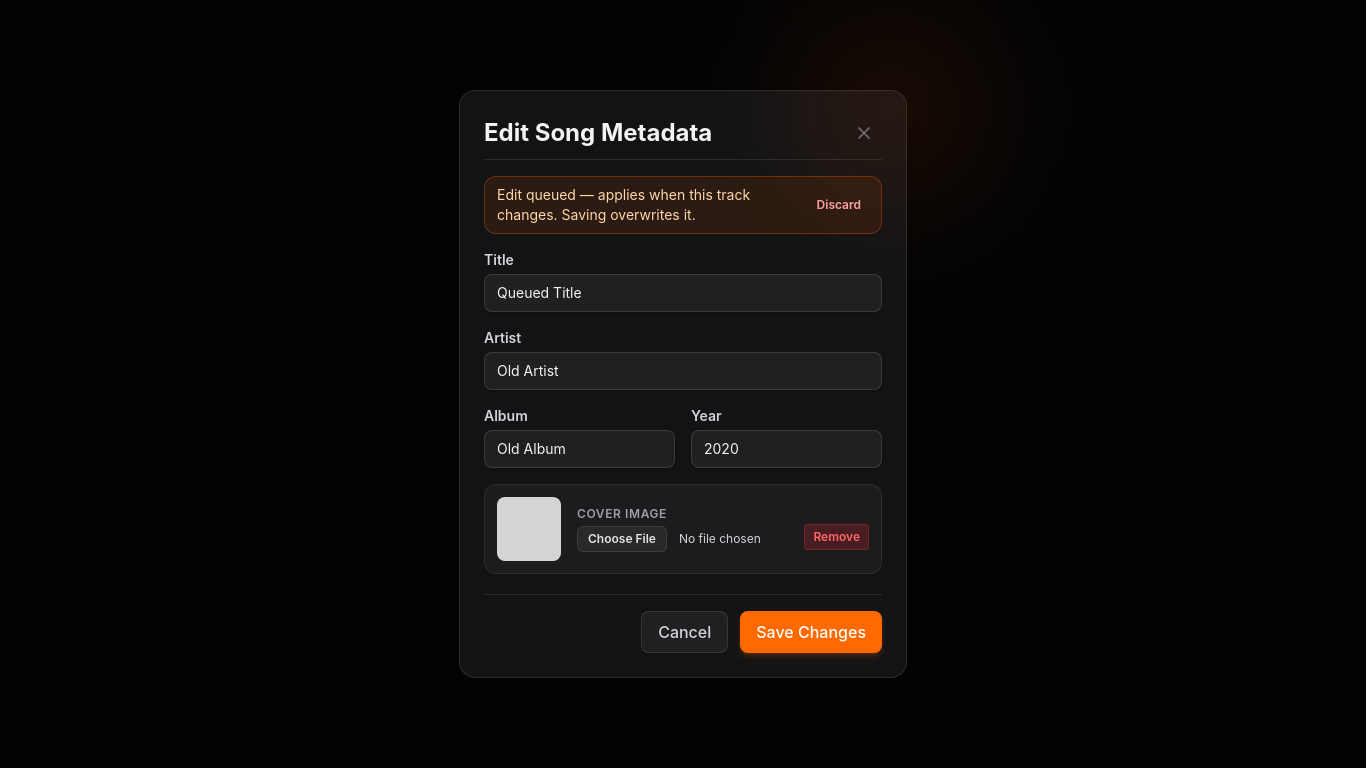
Test: EditSongModal submit › prefills from a queued edit and discards it on request
This screenshot has width=1366, height=768.
Check: the text "Edit queued" is shown, box [497,186,750,223]
Check: the field with placeholder "Song Title" holds "Queued Title", box [484,274,882,312]
Click the button "Discard". click: (839, 205)
box: [809,193,869,217]
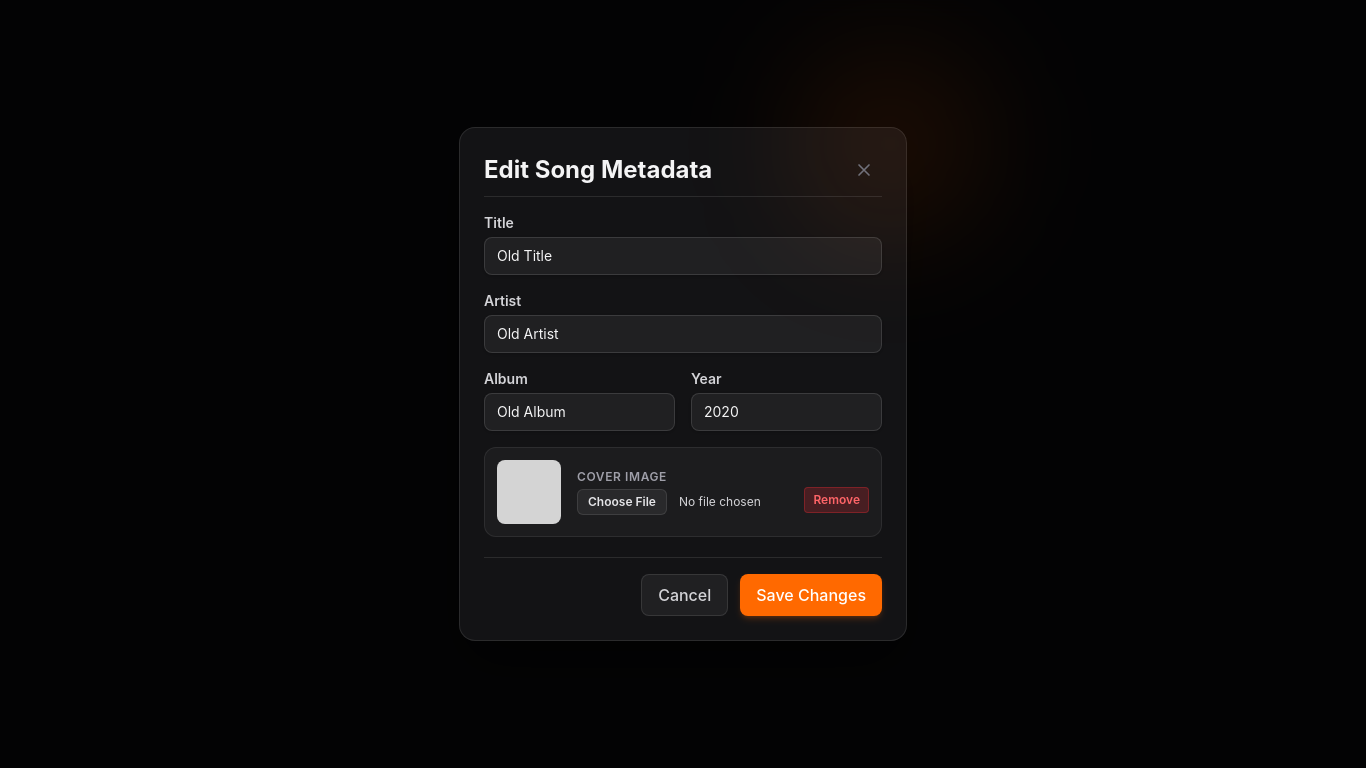
Check: the text "Edit queued" is gone
Check: the field with placeholder "Song Title" holds "Old Title", box [484,237,882,275]
